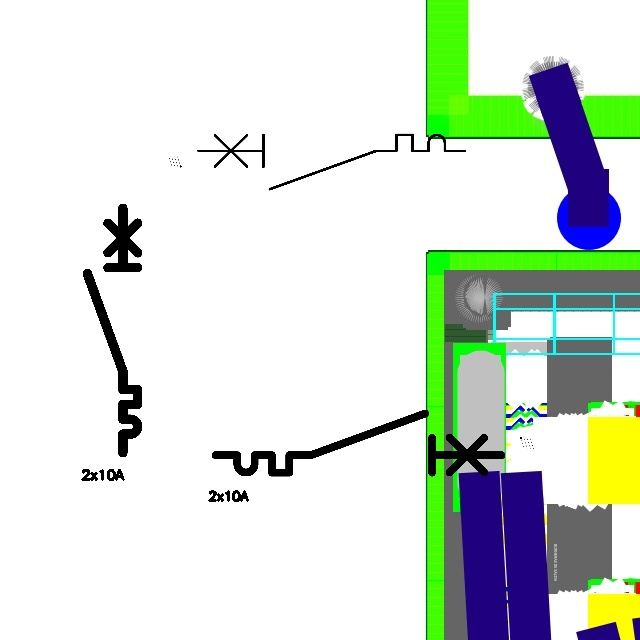interruptor_termomagnetico: (208, 406, 509, 480), (191, 128, 471, 196), (81, 202, 144, 459)
